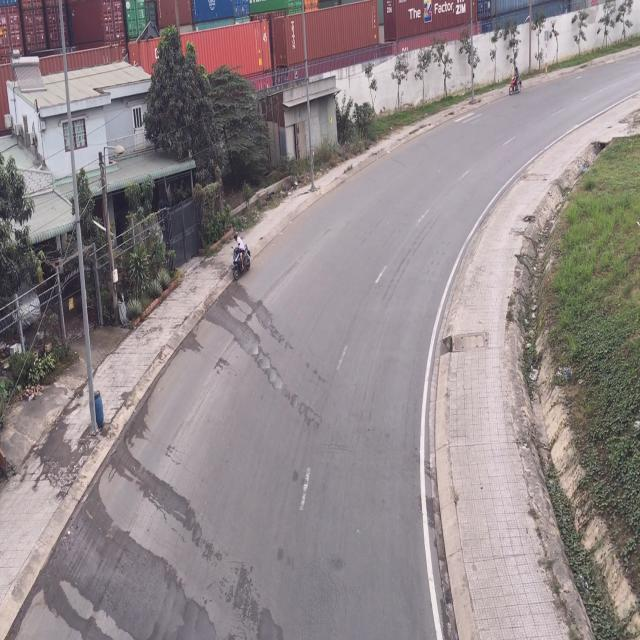motorbike: (232, 233, 252, 282), (508, 64, 522, 98)
